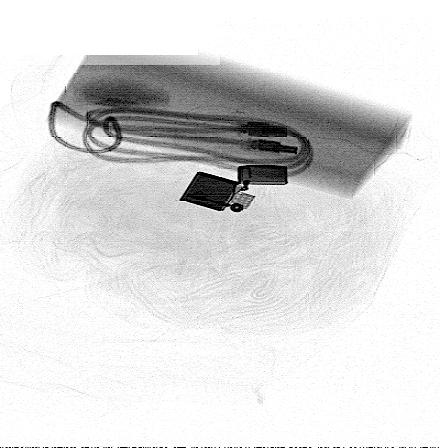Lighter: (178, 164, 288, 214)
